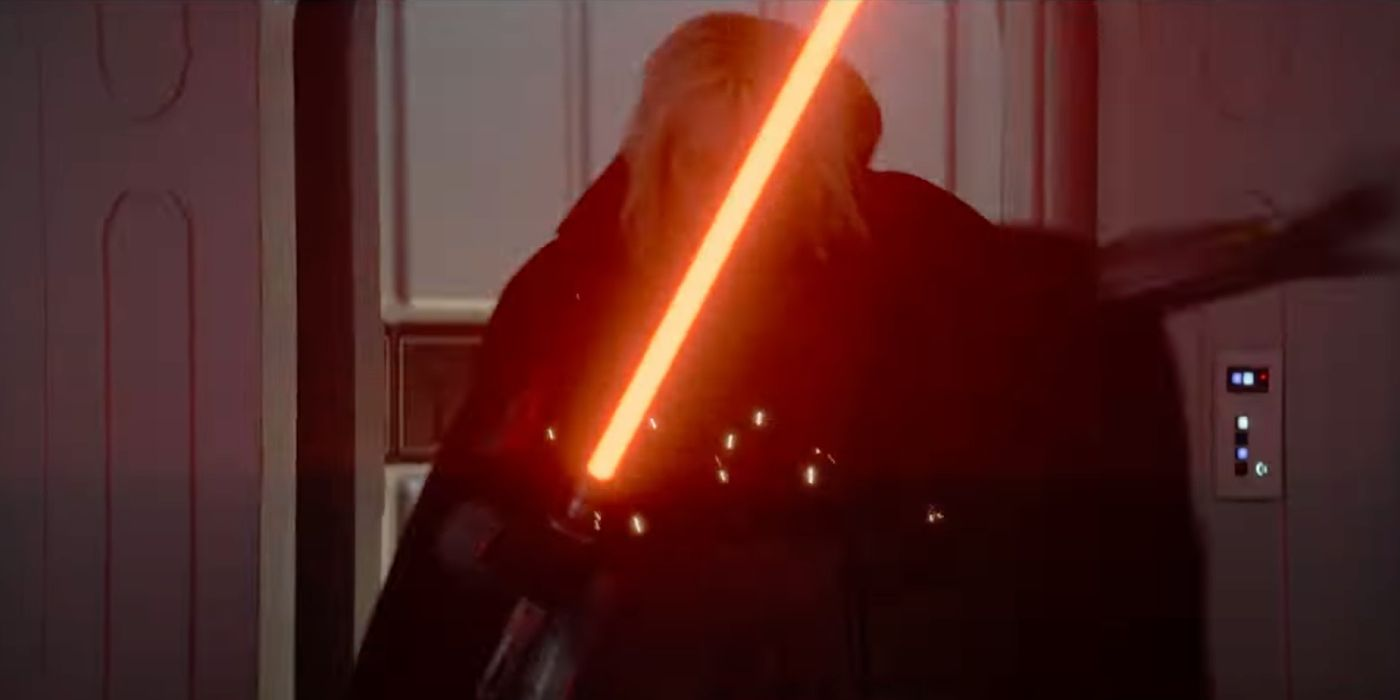lightsaber: (414, 0, 913, 700)
